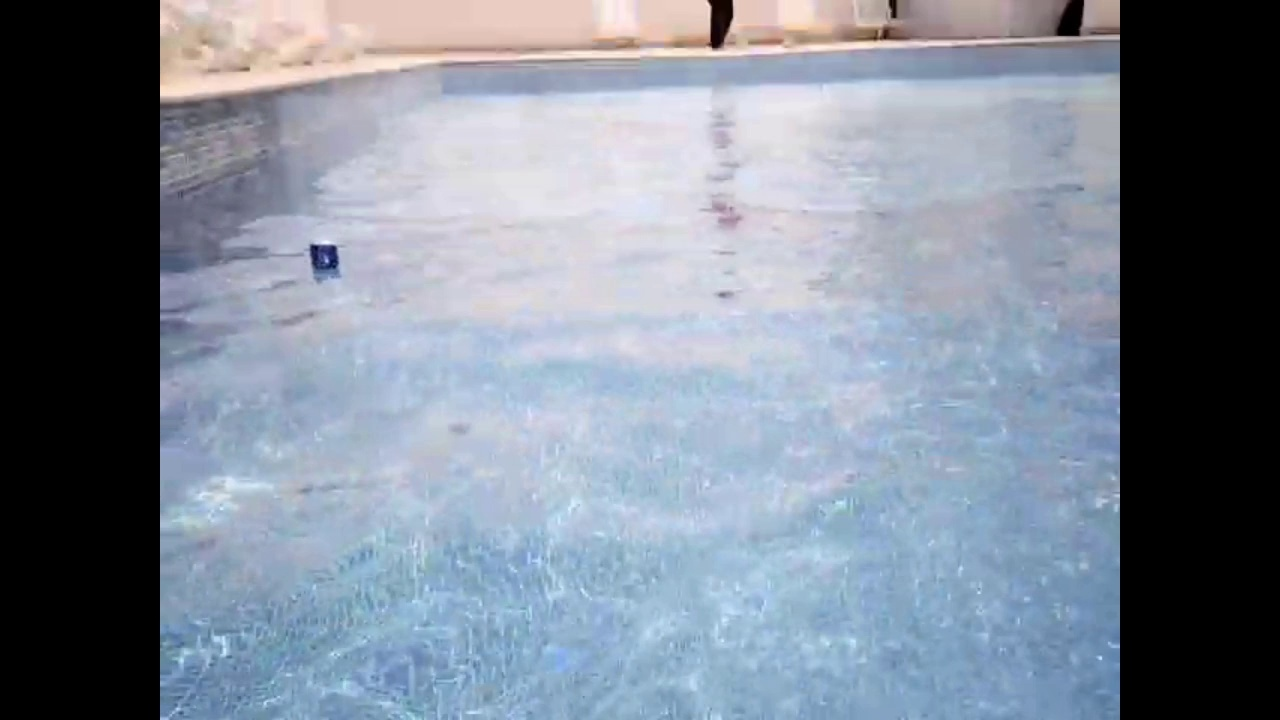debris: (302, 237, 346, 284)
